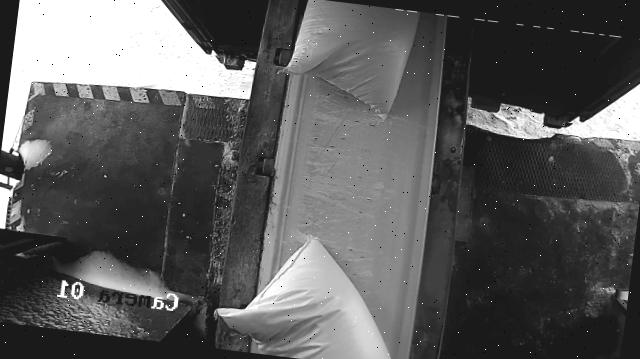bag: (211, 225, 410, 359), (272, 0, 421, 122)
